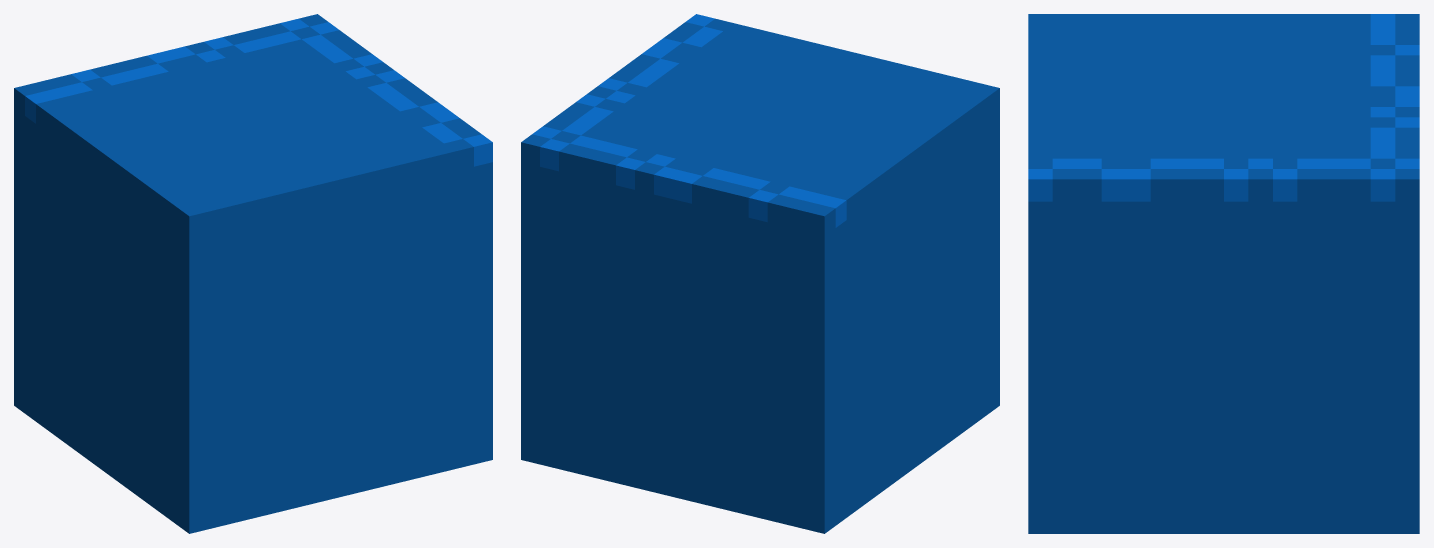
Rendered from WinterGrass-3.obj.
3 renders of one model, left to right at view 1: azimuth 30°, elevation 25°; view 2: azimuth 150°, elevation 25°; view 3: azimuth 270°, elevation 25°, orthographic. The views are drawn at different scales.
Size of the model in its own units: 1.6 by 1.6 by 1.6.
Materials: 1 (1 with a texture image).
